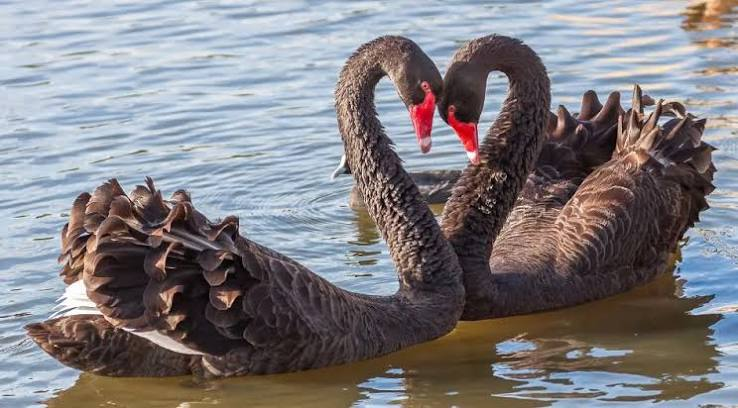black_swan: (23, 34, 469, 380), (440, 32, 720, 319)
